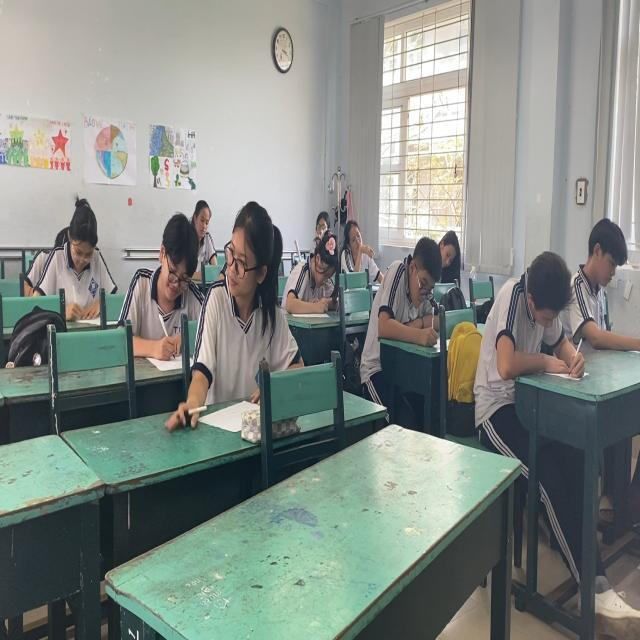cheating: (212, 198, 282, 387)
not_cheating: (471, 247, 578, 364), (564, 208, 640, 368), (125, 215, 214, 350), (34, 198, 118, 312), (370, 233, 436, 354), (286, 229, 348, 329), (332, 208, 376, 278), (185, 198, 218, 257), (434, 226, 465, 267)
